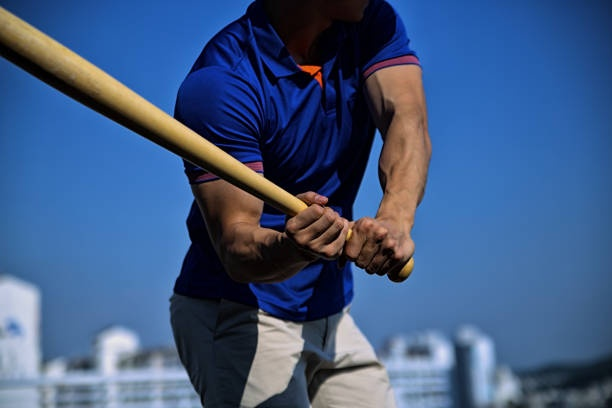bita: (1, 1, 281, 204)
